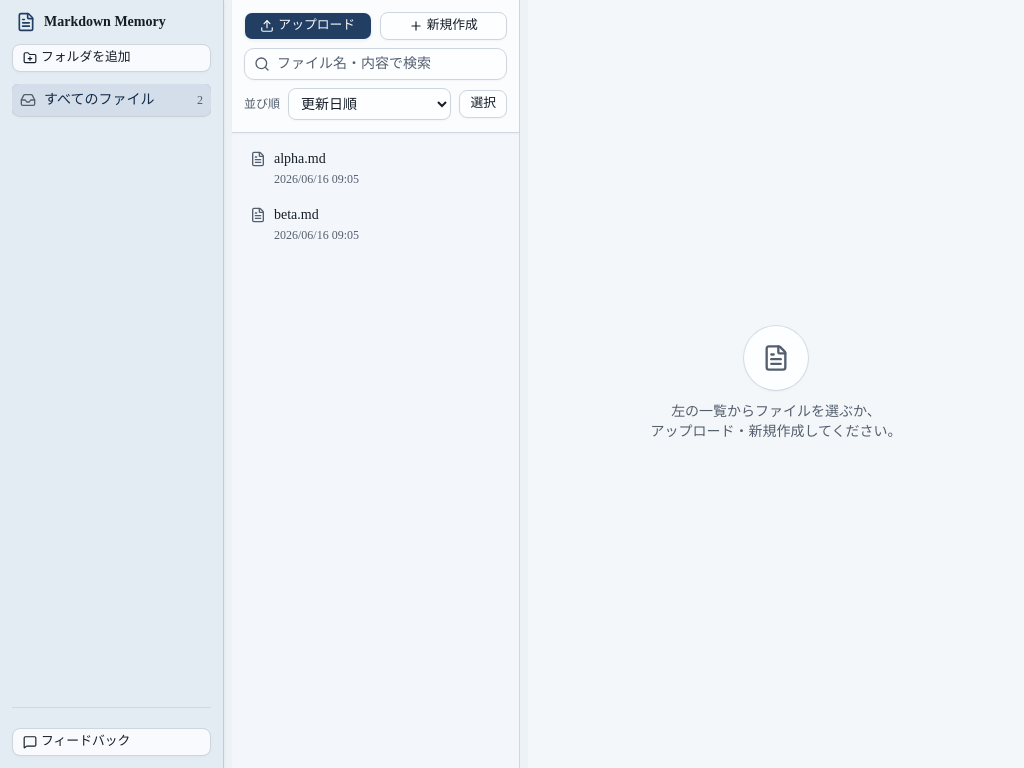
it: MarkdownWorkspace › 検索中は手動順の並び替えハンドルを無効にする
Select "手動順" in the dropdown labelled "並び順" at (370, 104), box [288, 88, 451, 120]
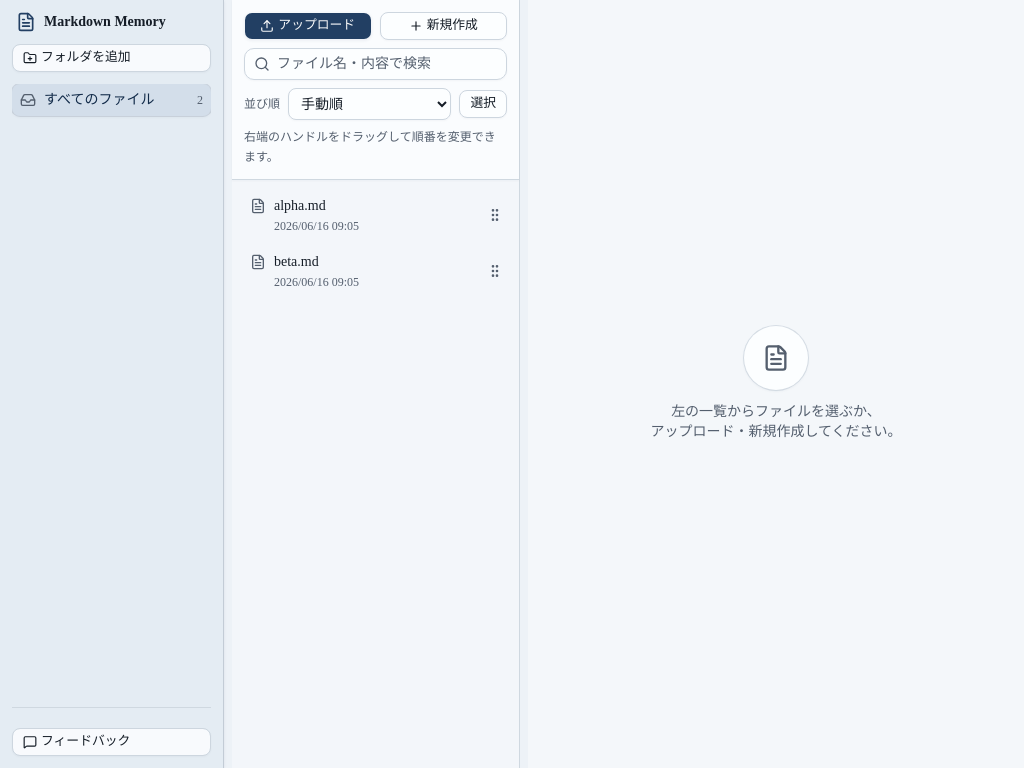
Type "alpha" into the field labelled "ファイル名・内容で検索" at (376, 64), box [244, 48, 507, 80]
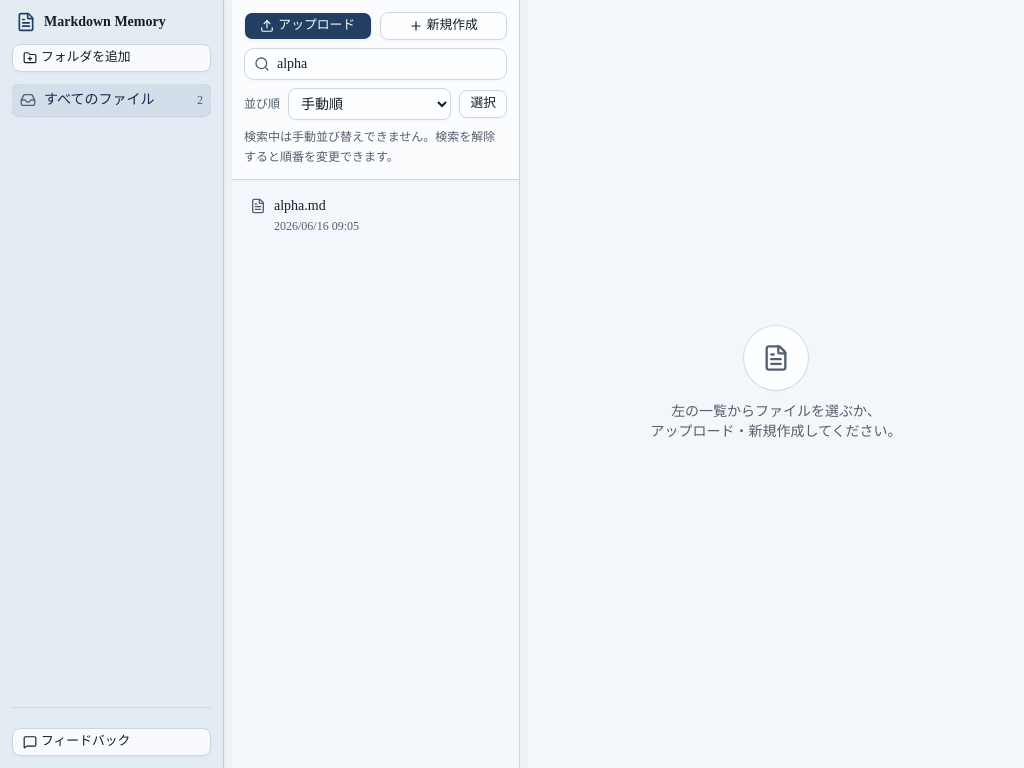
Now the text "検索中は手動並び替えできません。検索を解除すると順番を変更できます。" is shown, box [244, 128, 507, 167]
